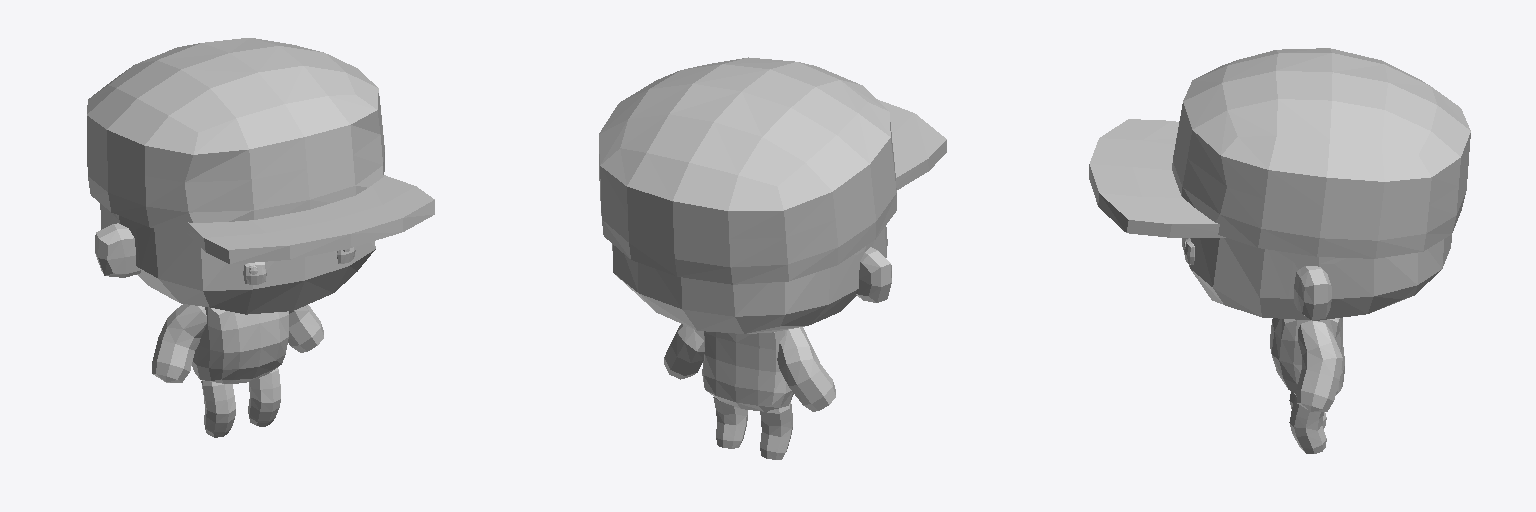
The model's file is idle_0011.obj.
The picture shows the model from 3 angles: view 1: azimuth 30°, elevation 25°; view 2: azimuth 150°, elevation 25°; view 3: azimuth 270°, elevation 25°; orthographic projection.
Parts seen in each view (by area): view 1: Object_41, Object_42, Object_36, Object_44, Object_38; view 2: Object_41, Object_44, Object_36, Object_42; view 3: Object_41, Object_36, Object_42, Object_44.
Part boxes in pixels (left/top/right/bottom): Object_41: left=87, top=38, right=384, bottom=233; Object_42: left=185, top=110, right=434, bottom=263; Object_36: left=95, top=203, right=375, bottom=314; Object_44: left=152, top=304, right=323, bottom=437; Object_38: left=243, top=247, right=355, bottom=284; Object_41: left=599, top=57, right=896, bottom=284; Object_44: left=664, top=324, right=835, bottom=459; Object_36: left=612, top=226, right=891, bottom=333; Object_42: left=877, top=99, right=946, bottom=189; Object_41: left=1183, top=48, right=1470, bottom=258; Object_36: left=1182, top=235, right=1451, bottom=320; Object_42: left=1089, top=103, right=1226, bottom=237; Object_44: left=1270, top=318, right=1344, bottom=453.
Size of the model in its own units: 0.9691 by 1.22 by 1.14.